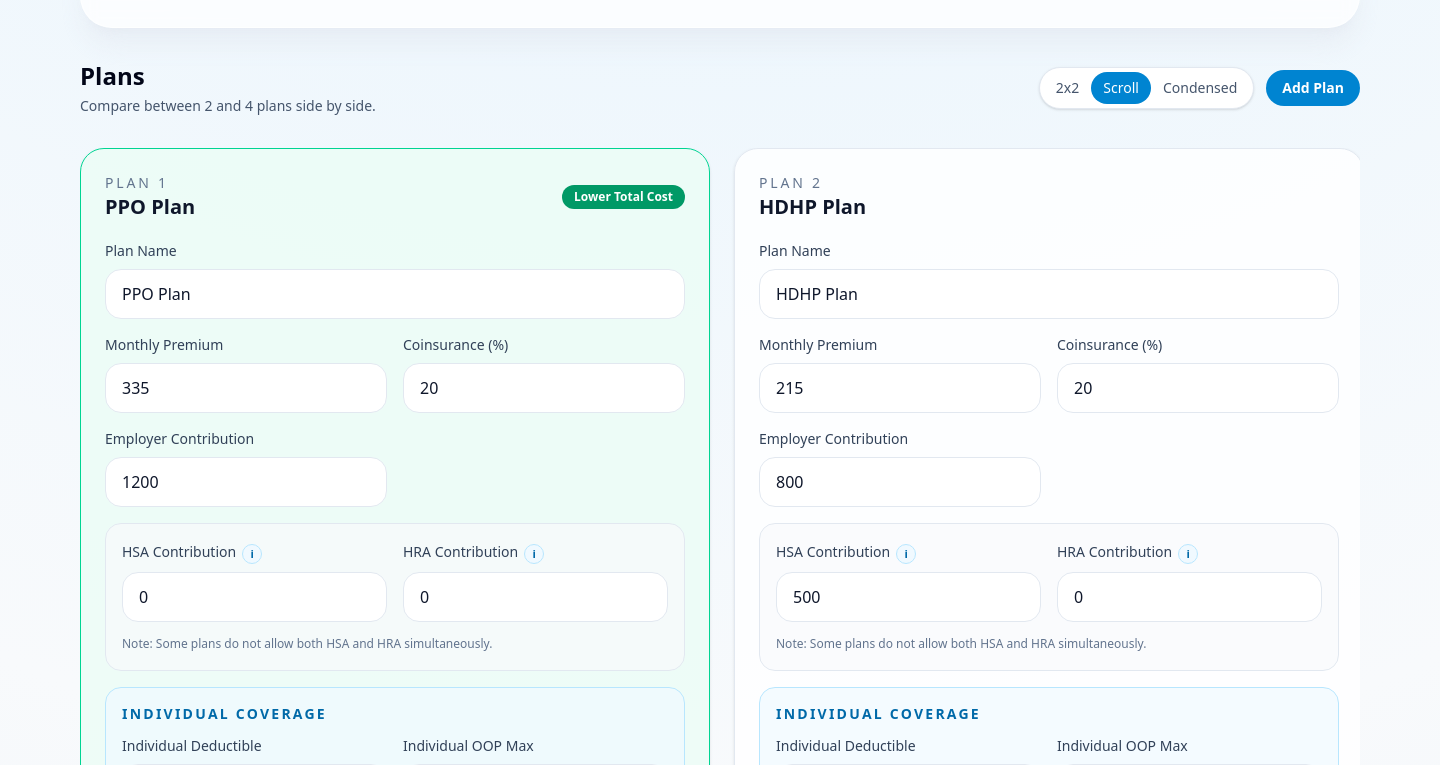
App integration › updates totals and cheaper-plan highlight when plan inputs change
(page scrolled)
Replace the text in the number field labelled "Monthly Premium" below "Lower Total Cost" with "100" at x=246, y=388, box [105,363,387,413]
(page scrolled)
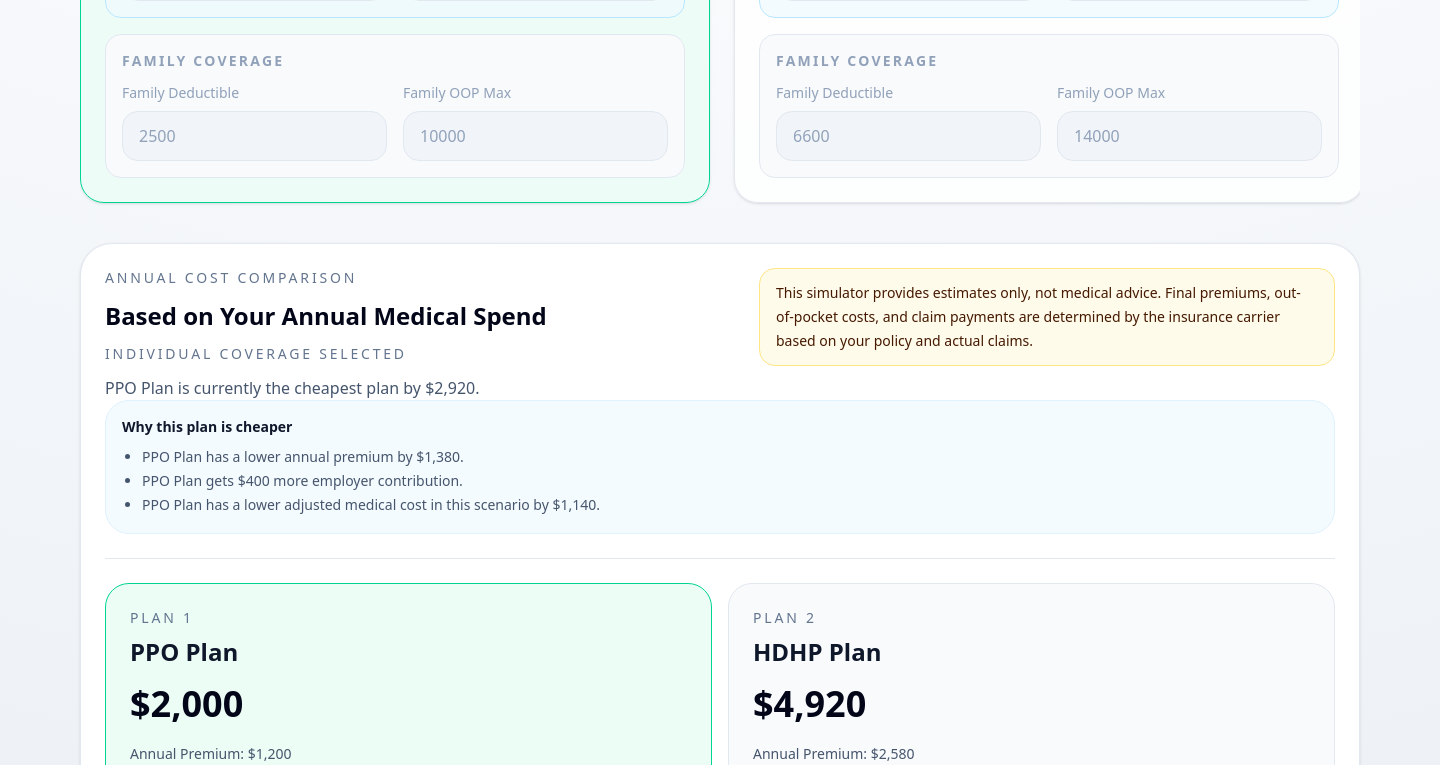
Expected: the text "$4,920" is shown, [753,679,866,728]
Now the text "$2,000" is shown, box [130,679,243,728]
Now the text "PPO Plan is currently the cheapest plan by $2,920." is shown, box [105,377,480,399]
